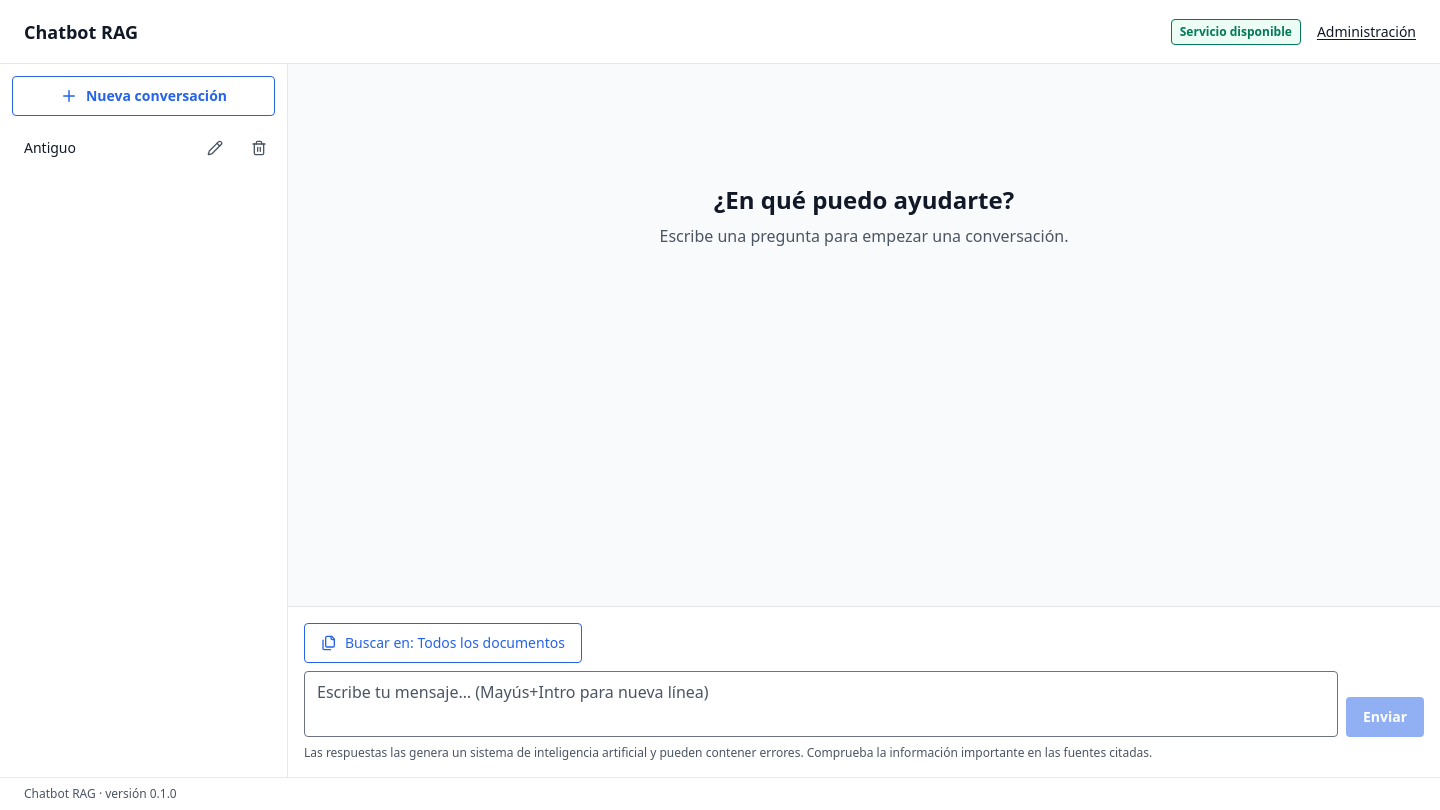
Test: Sidebar › lista conversaciones y renombra con Intro
Step 1. Click the button named "Renombrar: Antiguo" → (215, 148), box [195,128,235,168]
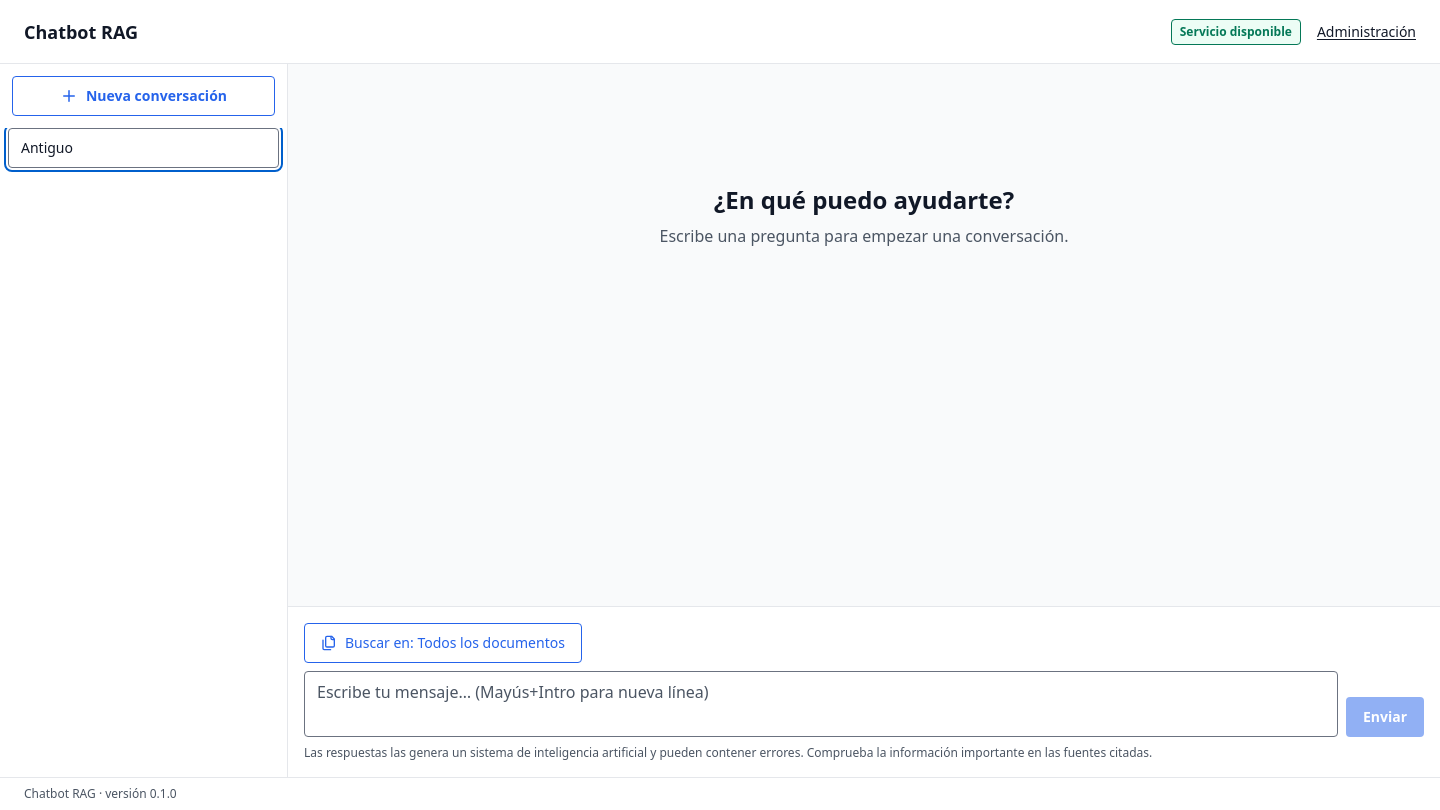
Step 2. Replace the text in the field named "Nuevo título" with "Nuevo" → (144, 148), box [8,128,279,168]
Then press Enter
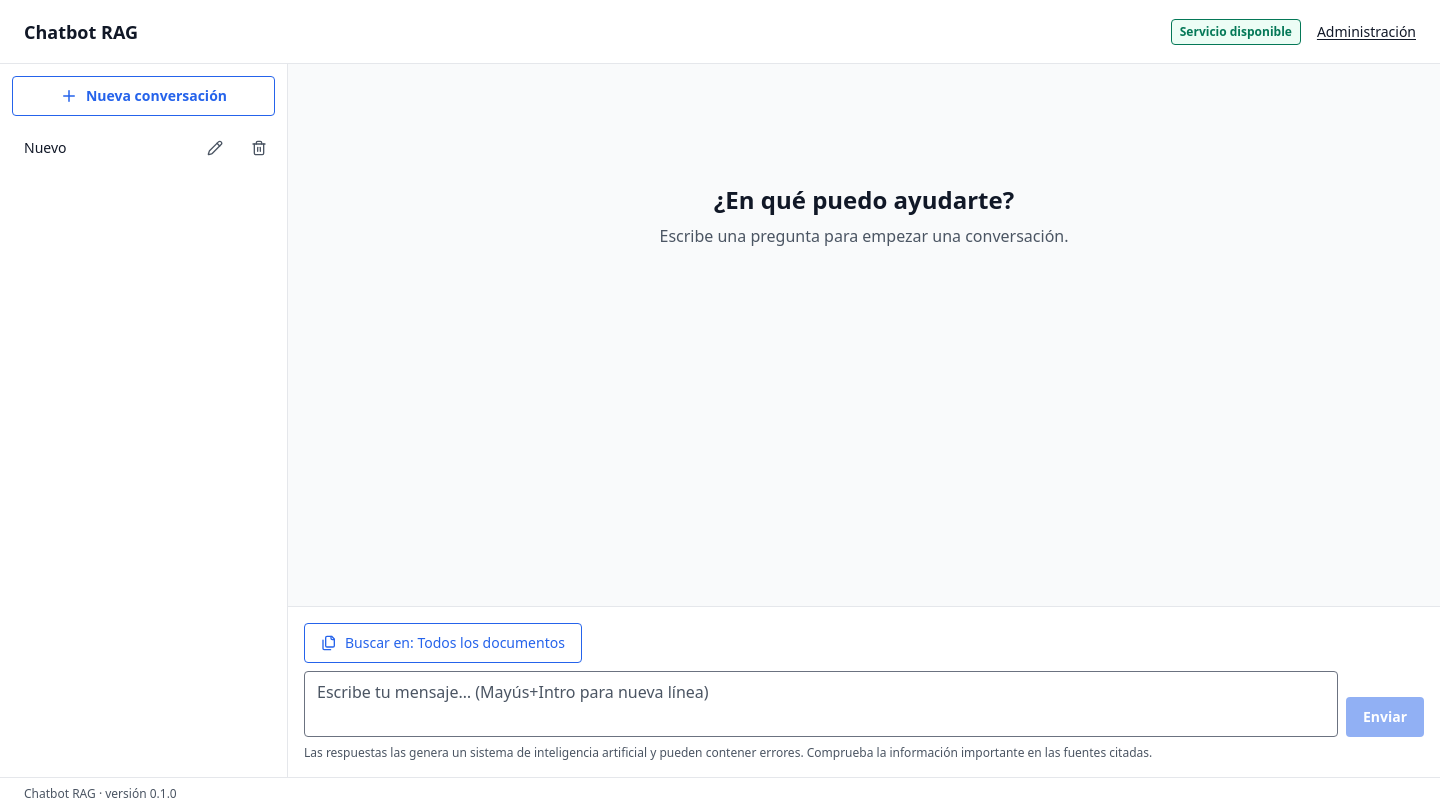
Check: the link "Nuevo" is shown, box [24,138,66,157]
